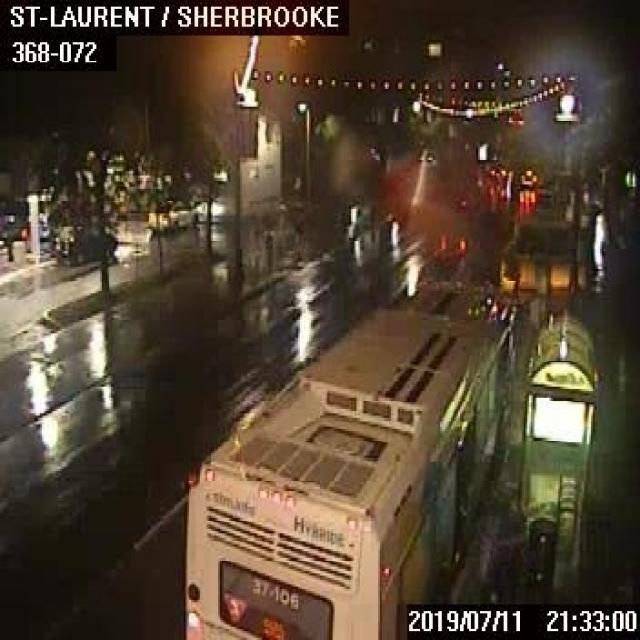bus: (180, 281, 515, 638)
vehicle: (52, 224, 116, 260), (145, 197, 196, 231), (432, 226, 466, 252), (519, 167, 536, 186), (486, 162, 505, 178)
